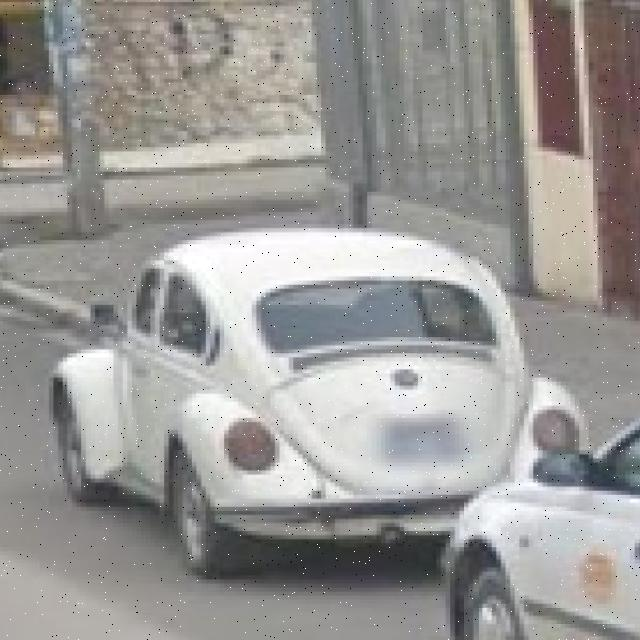car: (51, 229, 566, 560)
